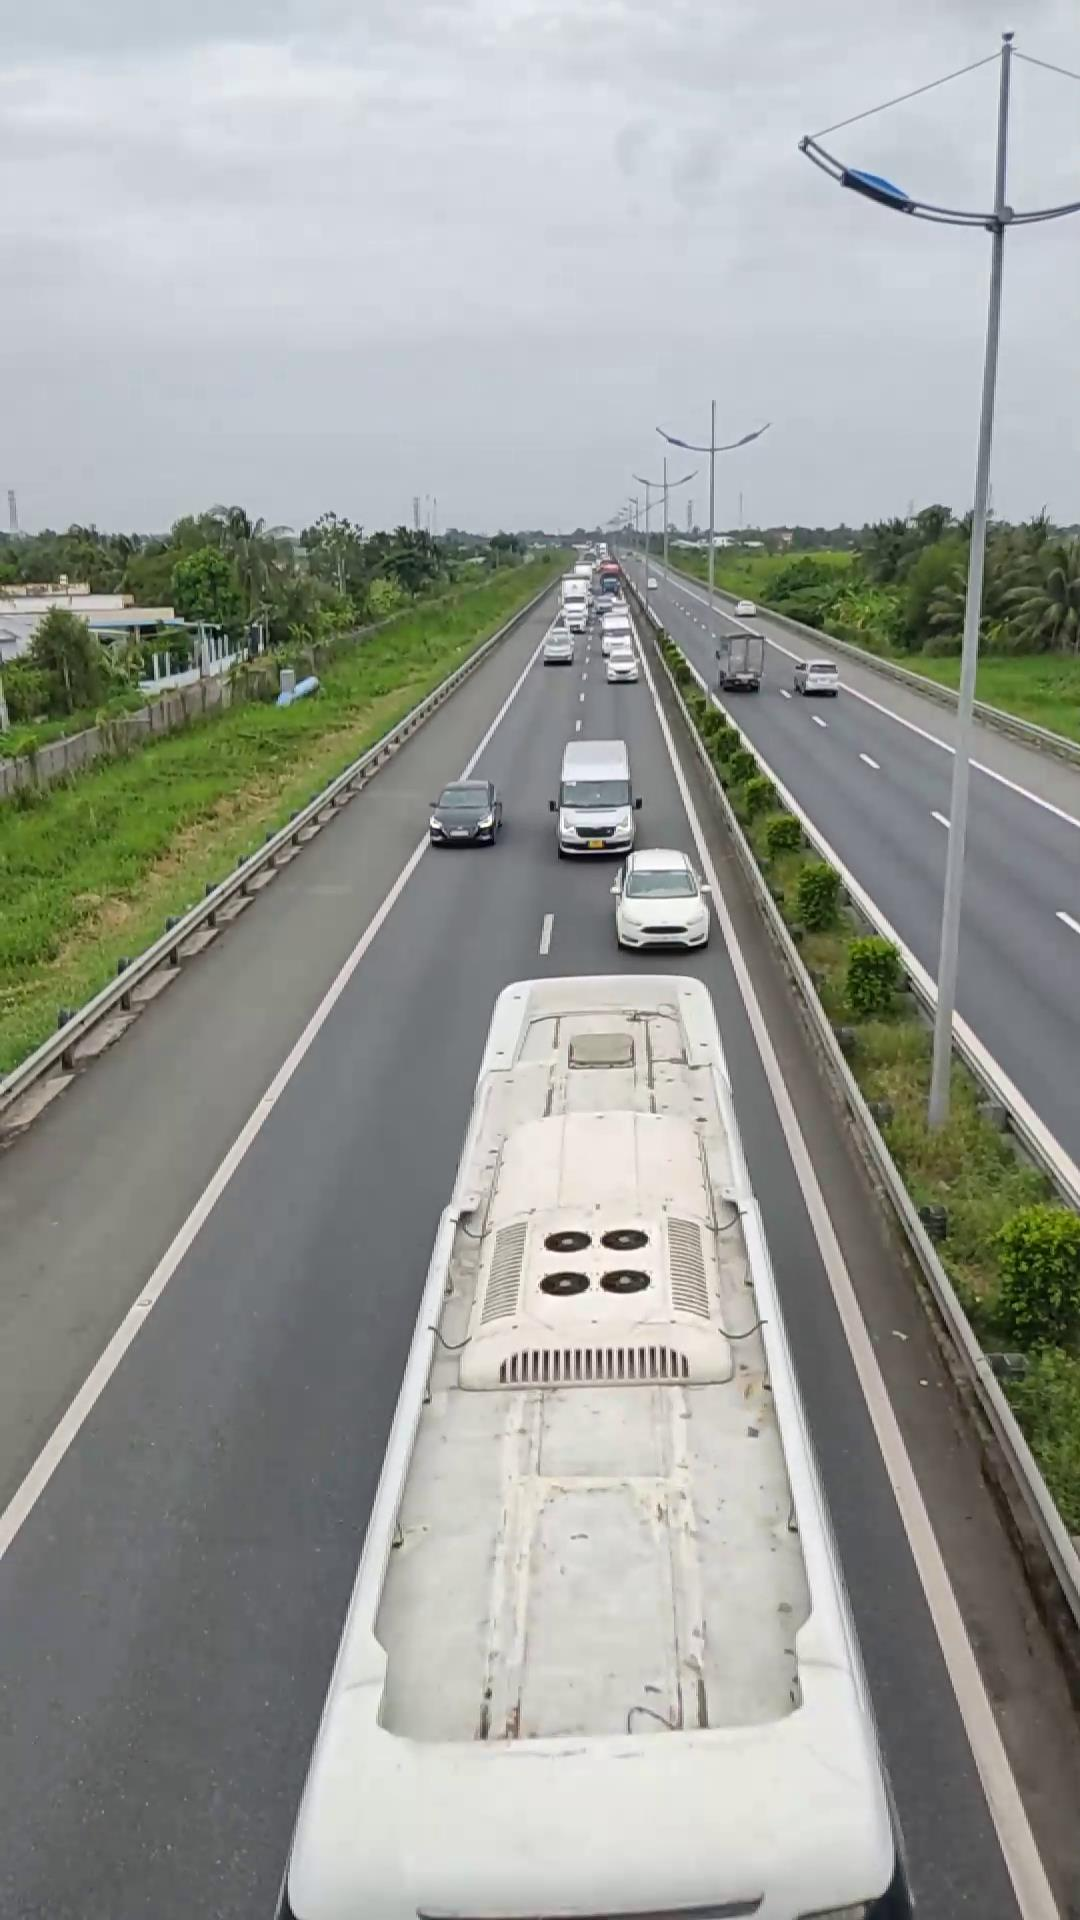bus: (280, 959, 914, 1917)
car: (549, 738, 641, 858), (634, 847, 736, 949), (427, 777, 502, 847)
